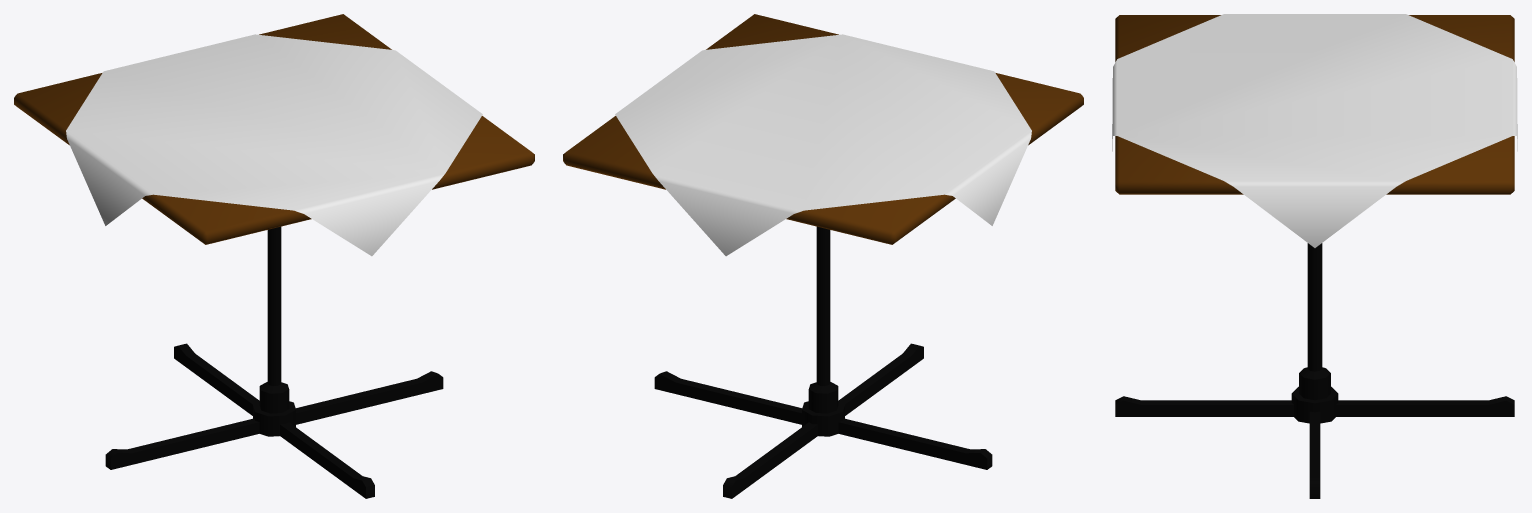
Rendered from CaffeTable.fbx.
3 renders of one model, left to right at view 1: azimuth 30°, elevation 25°; view 2: azimuth 150°, elevation 25°; view 3: azimuth 270°, elevation 25°, orthographic. The views are drawn at different scales.
Parts seen in each view (by area): view 1: TableMat, Table, TableLeg, TableFrame; view 2: TableMat, Table, TableLeg, TableFrame; view 3: TableMat, Table, TableLeg, TableFrame.
Boxes of the visible parts, x1,y1,x2,y2 form: TableMat: (66, 34, 482, 256); Table: (14, 14, 534, 244); TableLeg: (105, 343, 443, 498); TableFrame: (253, 226, 295, 436); TableMat: (615, 34, 1031, 256); Table: (563, 14, 1083, 244); TableLeg: (654, 343, 992, 498); TableFrame: (802, 226, 844, 436); TableMat: (1112, 14, 1517, 247); Table: (1115, 15, 1514, 194); TableLeg: (1115, 396, 1514, 498); TableFrame: (1291, 243, 1338, 423).
Size of the model in its own units: 120 by 120 by 104.
